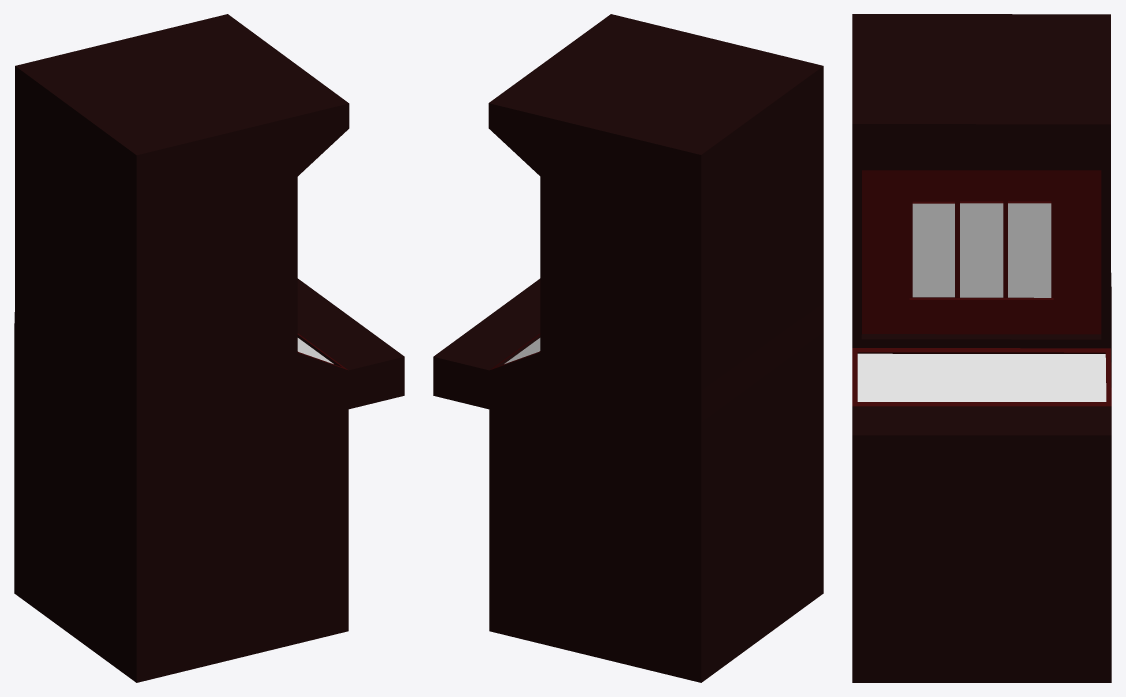
Rendered from Slot machine.fbx.
3 views of the same model, side by side, from view 1: azimuth 30°, elevation 25°; view 2: azimuth 150°, elevation 25°; view 3: azimuth 270°, elevation 25° (orthographic). The views are drawn at different scales.
Parts seen in each view (by area): view 1: Machine; view 2: Machine; view 3: Machine.
Boxes of the visible parts, <box> form: Machine: <box>14,14,404,682</box>; Machine: <box>433,14,823,682</box>; Machine: <box>852,14,1111,682</box>.
Size of the model in its own units: 253 by 476 by 200.
